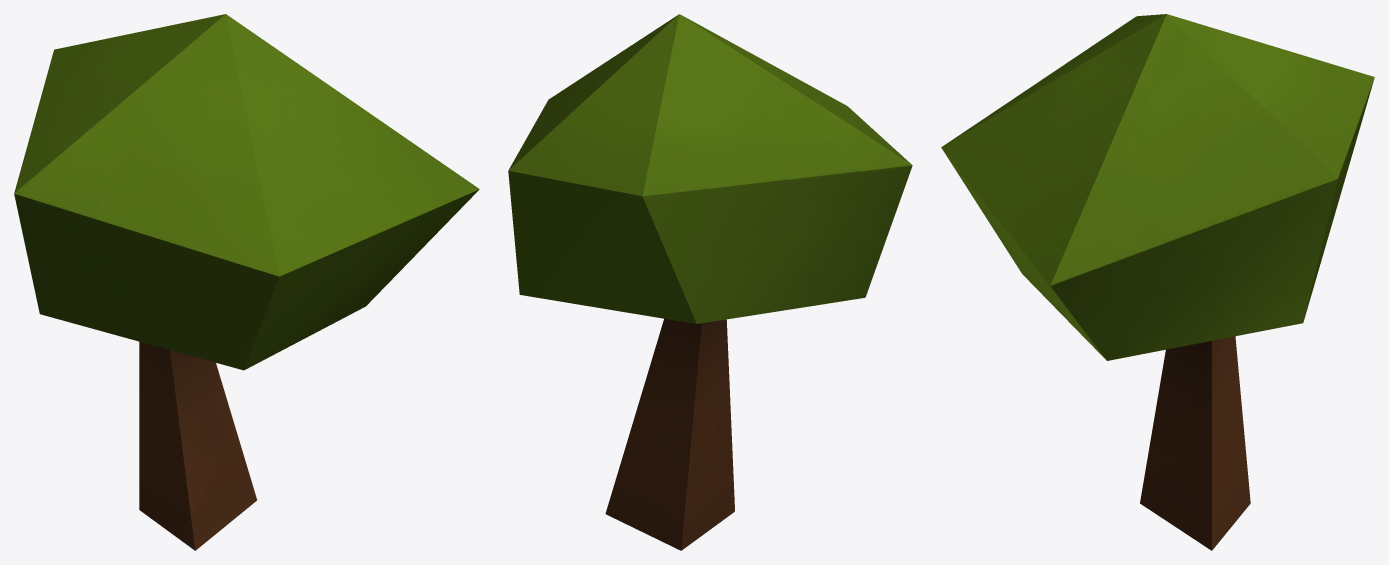
Rendered from Leave_tree_C2_02.FBX.
3 views of the same model, side by side, from view 1: azimuth 30°, elevation 25°; view 2: azimuth 150°, elevation 25°; view 3: azimuth 270°, elevation 25° (orthographic). The views are drawn at different scales.
Parts seen in each view (by area): view 1: Leave_tree_C2_02; view 2: Leave_tree_C2_02; view 3: Leave_tree_C2_02.
Part boxes in pixels (box(x1,y1,x2,y2)): Leave_tree_C2_02: box(14, 14, 479, 550); Leave_tree_C2_02: box(508, 14, 912, 550); Leave_tree_C2_02: box(941, 14, 1374, 550).
Size of the model in its own units: 45.03 by 40.49 by 52.62.
